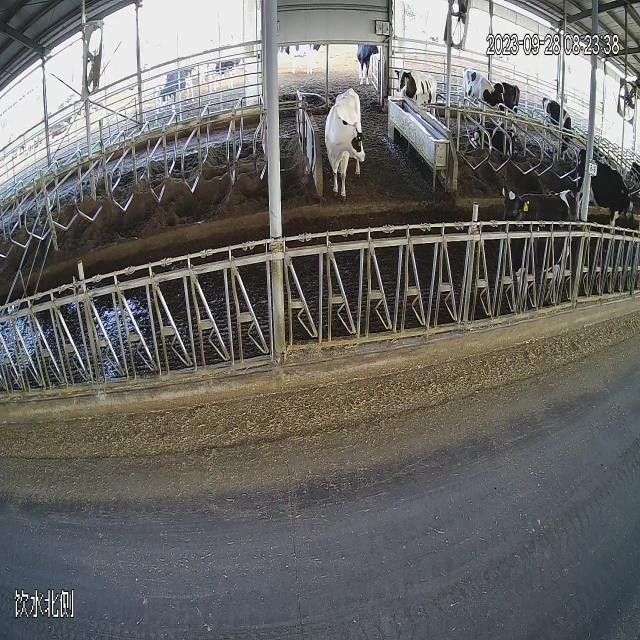standing: (500, 183, 588, 314), (568, 130, 640, 268), (314, 74, 370, 214), (461, 66, 509, 149), (157, 58, 200, 141), (393, 63, 445, 128), (538, 86, 574, 166), (212, 45, 250, 107), (280, 42, 329, 80), (355, 36, 383, 94)
